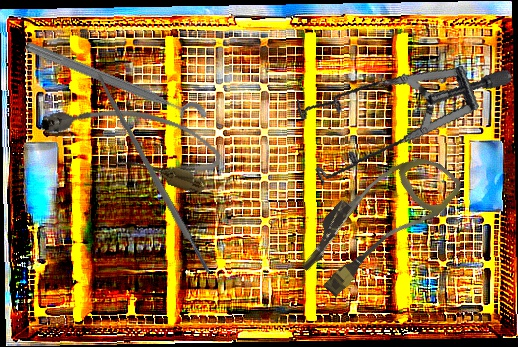Cannula: (290, 130, 465, 312), (35, 81, 227, 198)
Fixation Ring: (18, 35, 211, 139)
Scalpel Handle: (93, 72, 213, 277)
Speculum: (277, 21, 516, 226)
